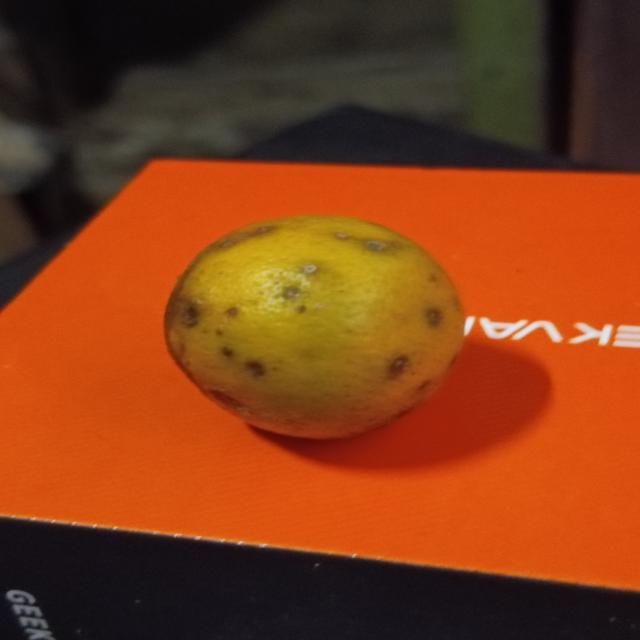black spot: (157, 215, 478, 451)
